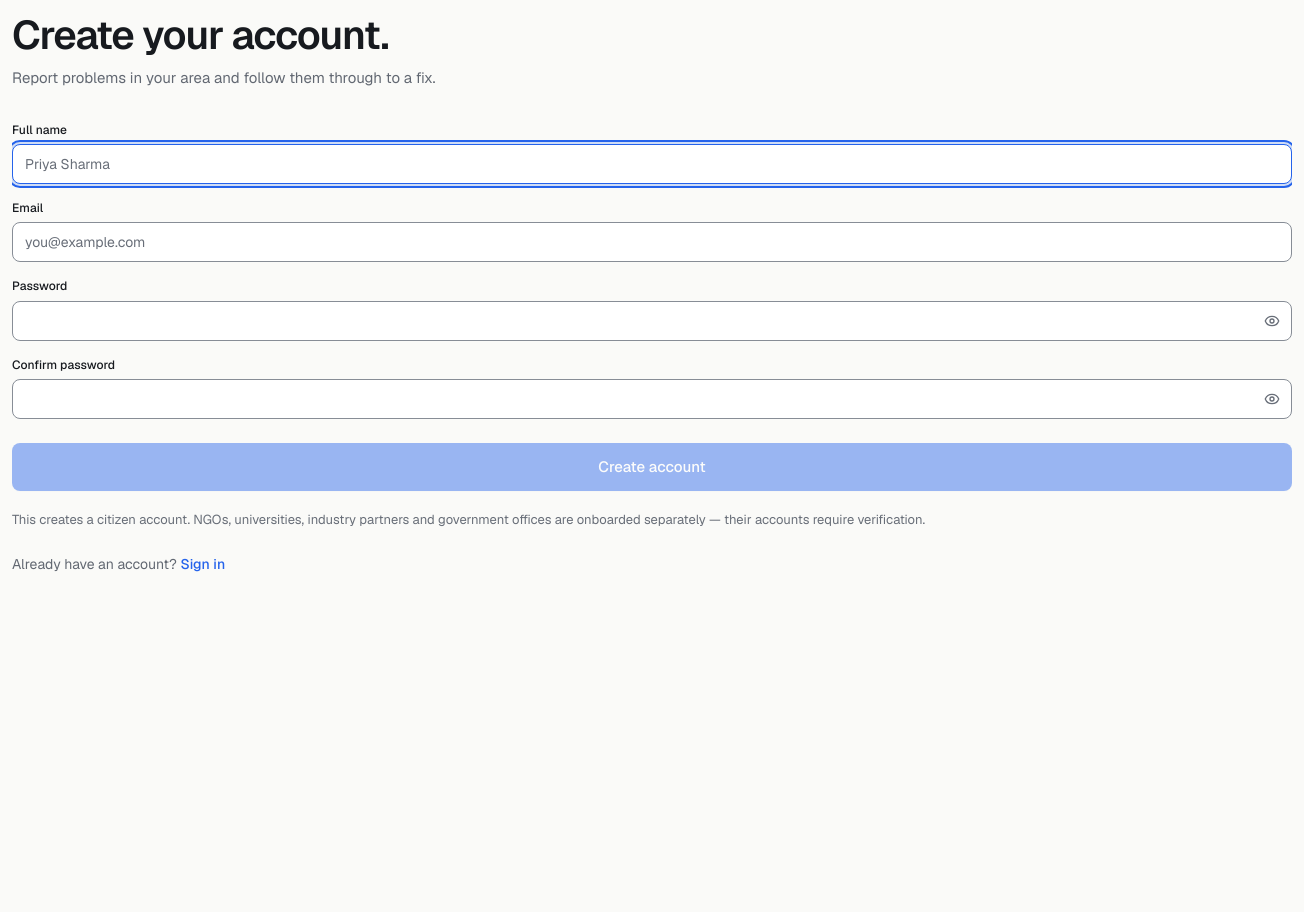
RegisterForm › maps a field-scoped server error onto its input
This screenshot has width=1304, height=912.
In the field labelled "Full name": (652, 164) top-left (12, 144), bottom-right (1292, 184), type "New Citizen"
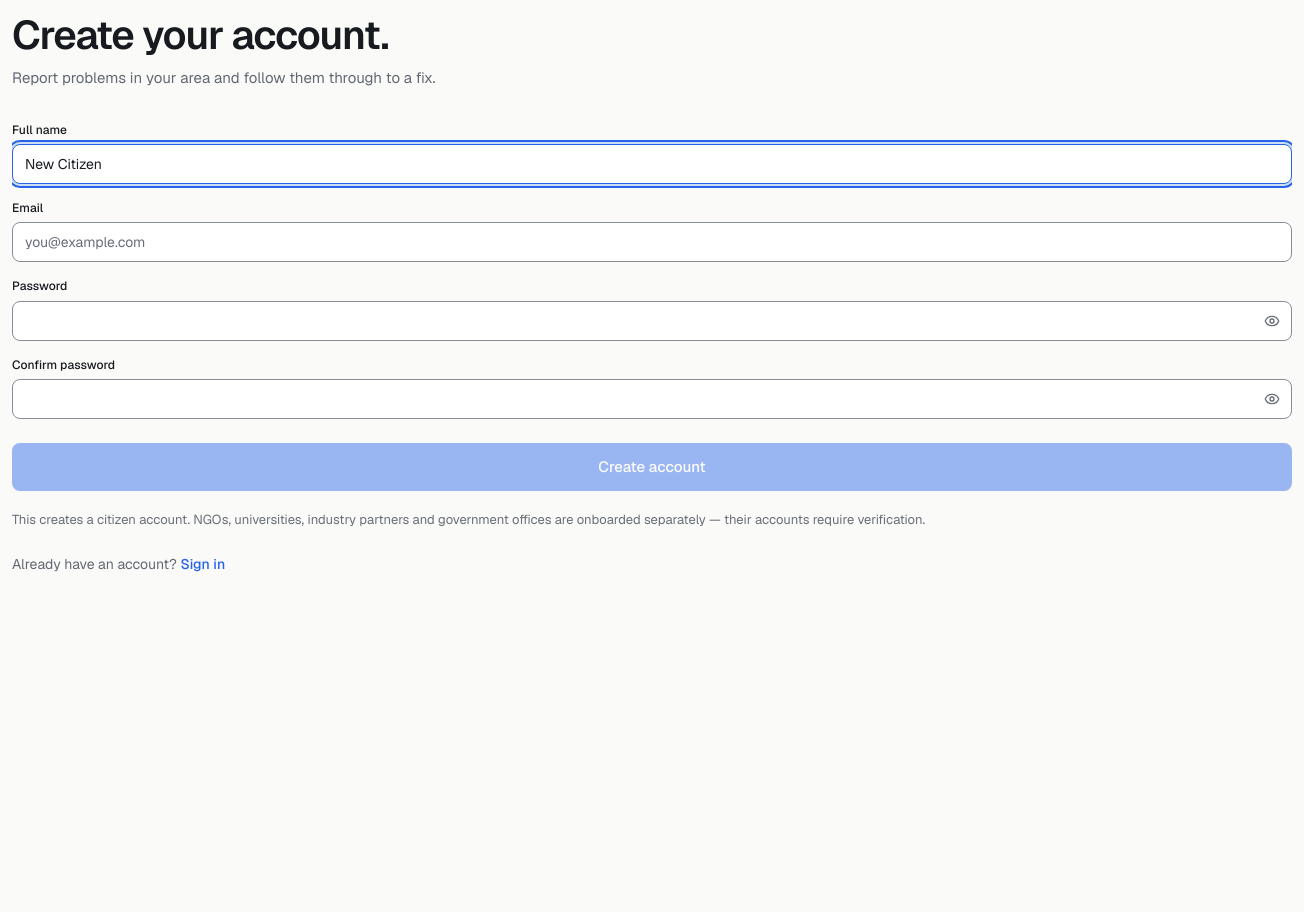
In the field labelled "Email": (652, 242) top-left (12, 222), bottom-right (1292, 262), type "new@example.com"
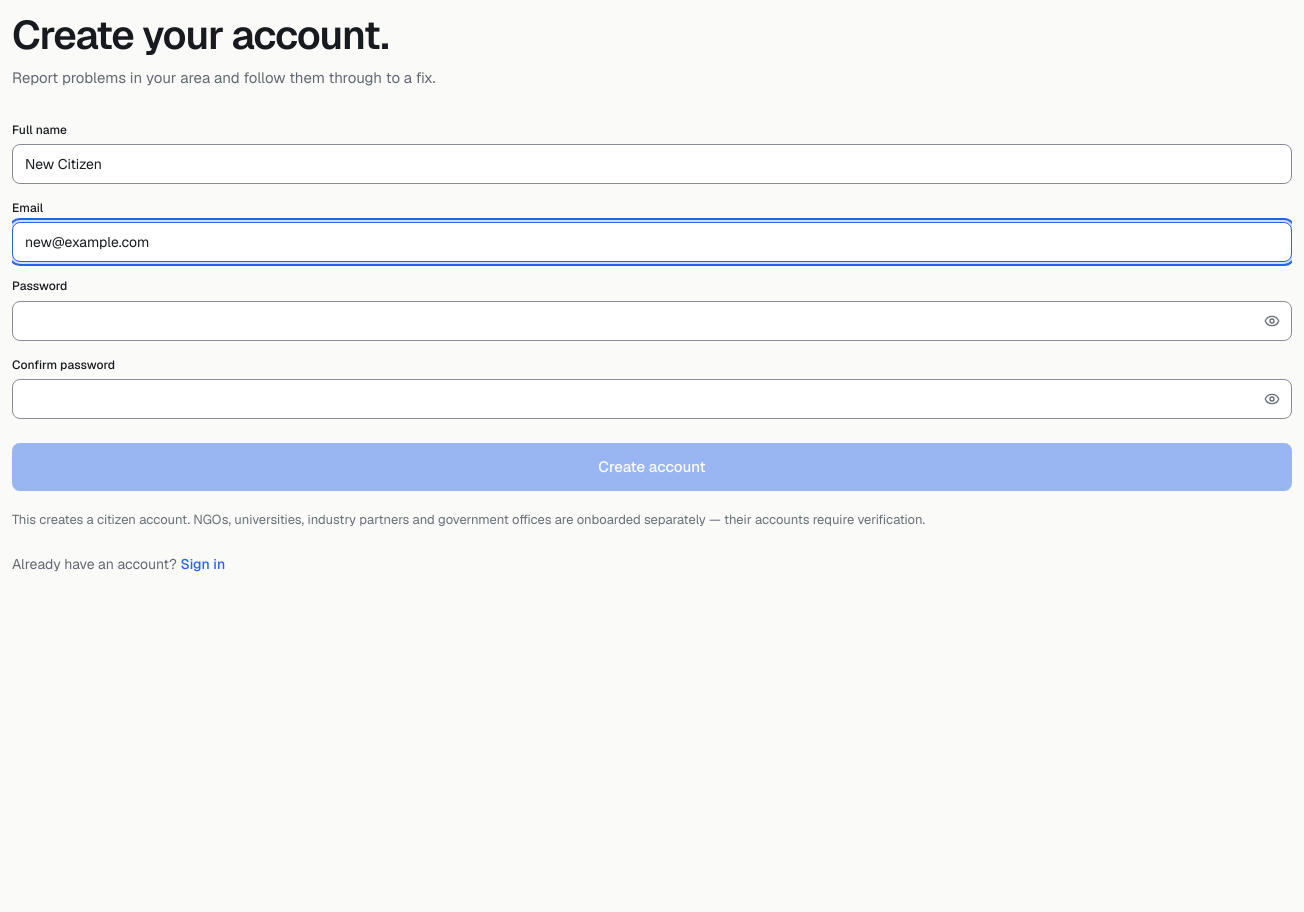
In the password field labelled "Password": (652, 321) top-left (12, 301), bottom-right (1292, 341), type "Monsoon-Drain-2026"
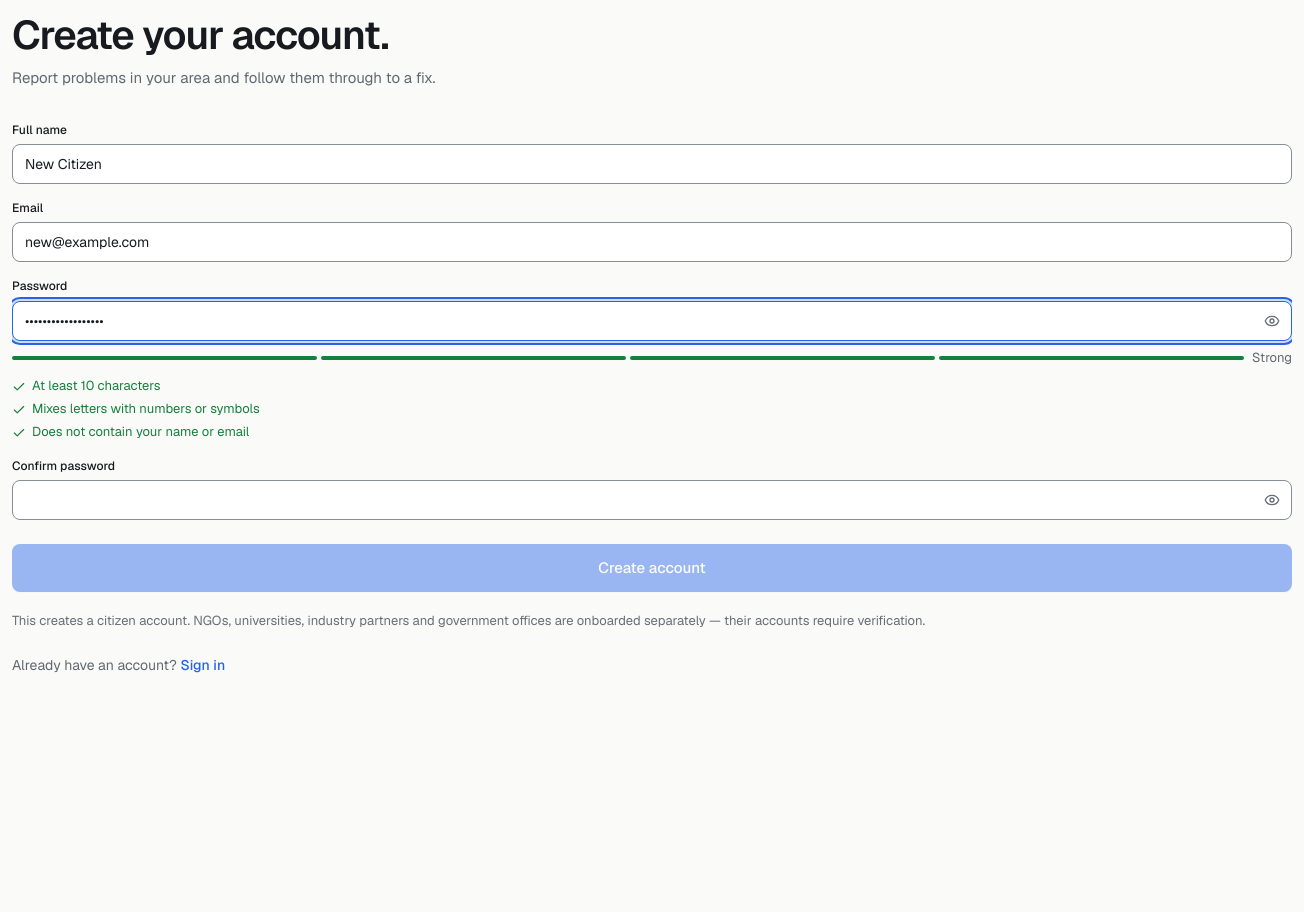
In the password field labelled "Confirm password": (652, 500) top-left (12, 480), bottom-right (1292, 520), type "Monsoon-Drain-2026"
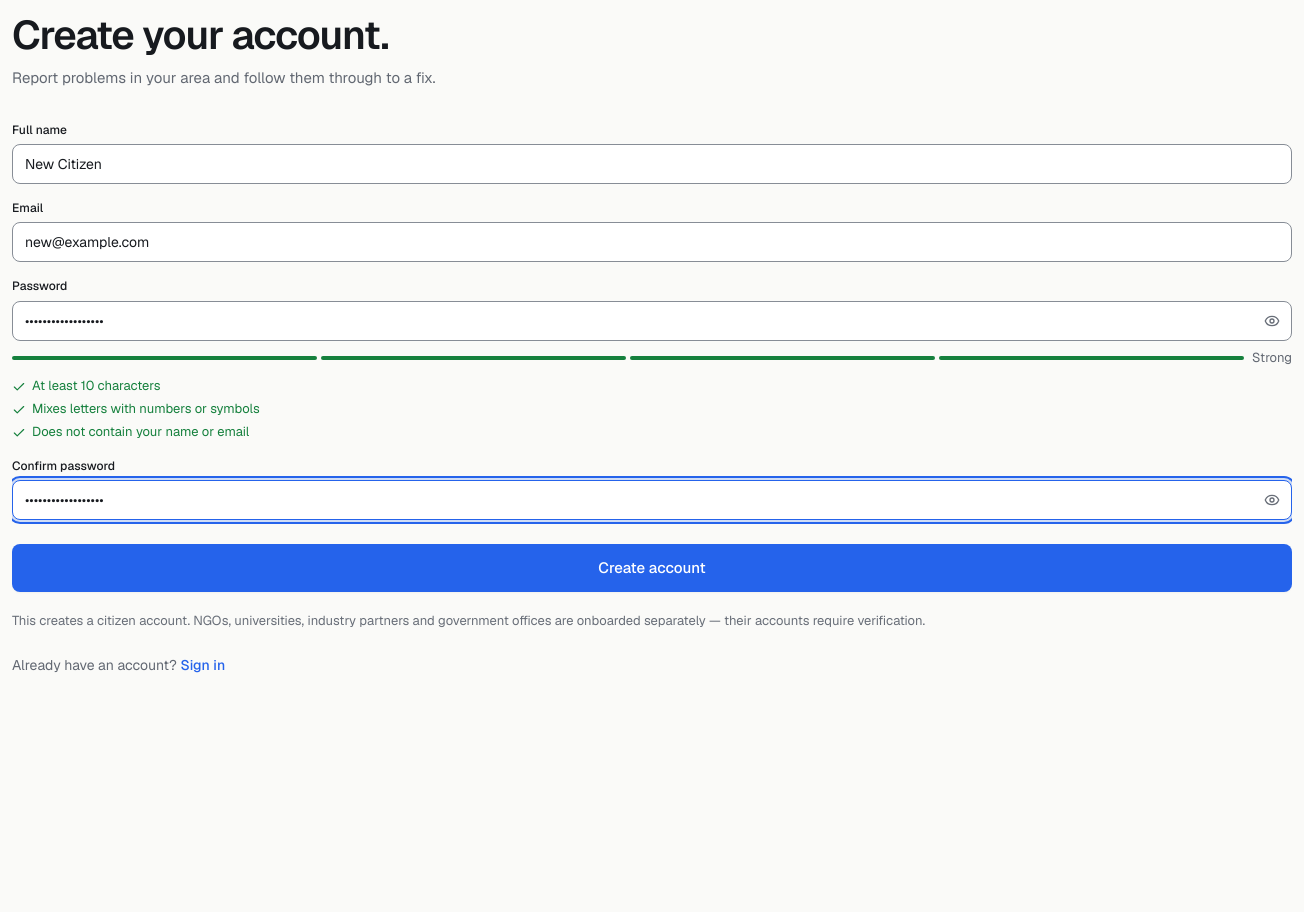
Click the button "Create account": (652, 568) top-left (12, 544), bottom-right (1292, 592)
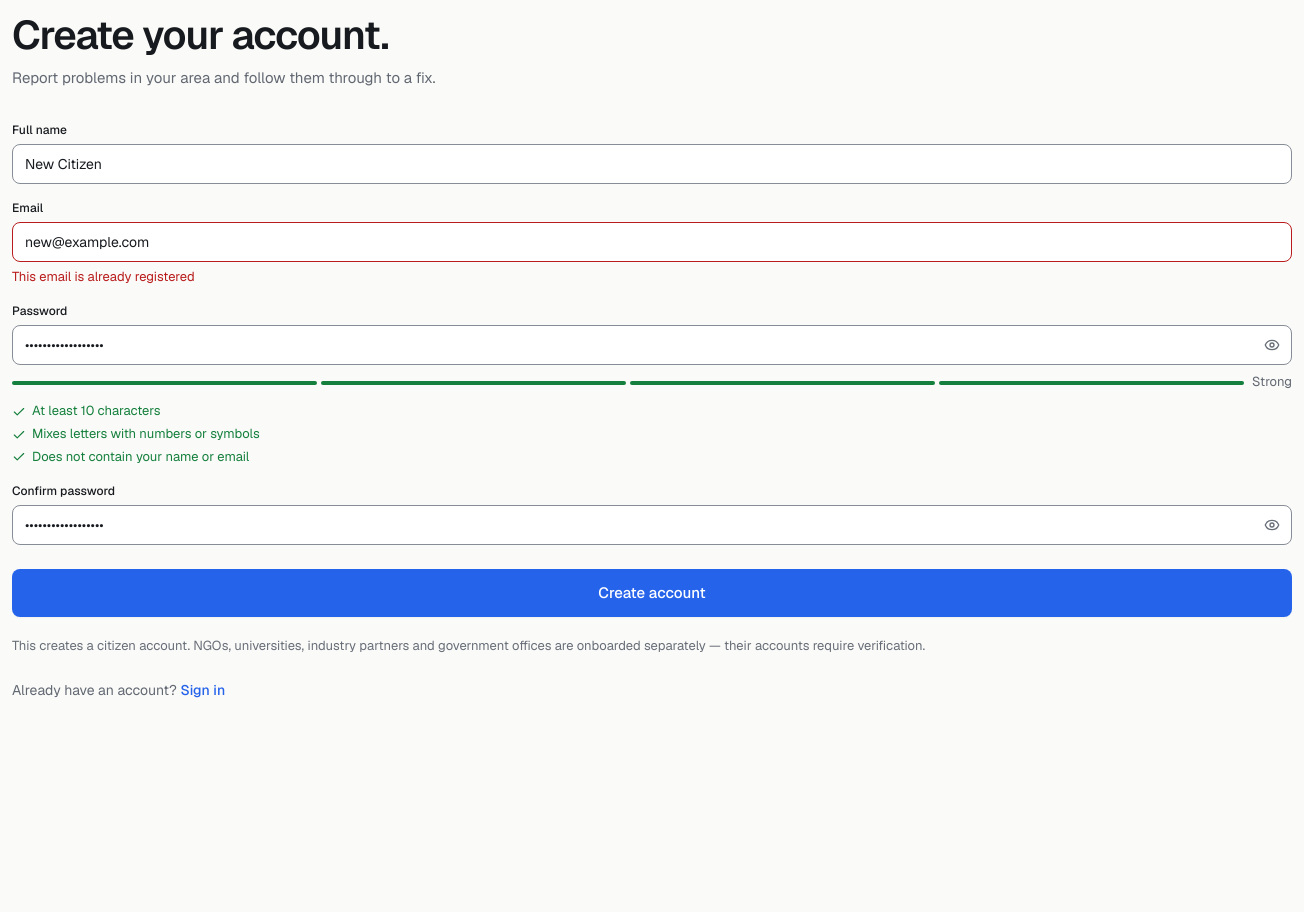
Now the text "This email is already registered" is shown, box top-left (12, 268), bottom-right (195, 285)
